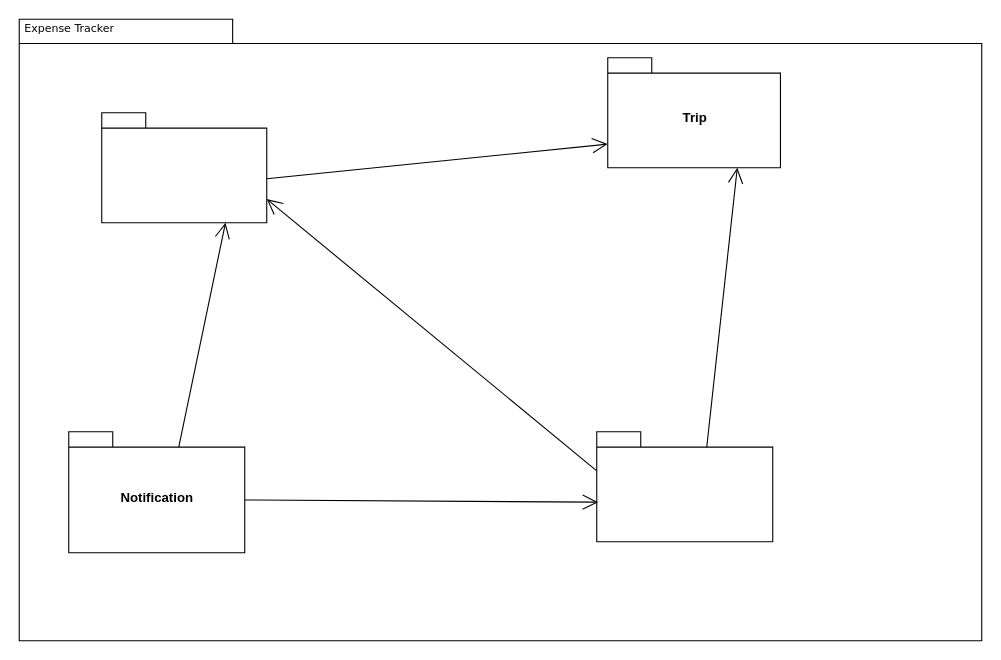
The diagram is 1001 pixels wide and 660 high, and some of its shapes have lost their labels. Each missing label, with the box of its shape:
Expense: (596, 431, 773, 542)
User: (101, 112, 267, 223)
